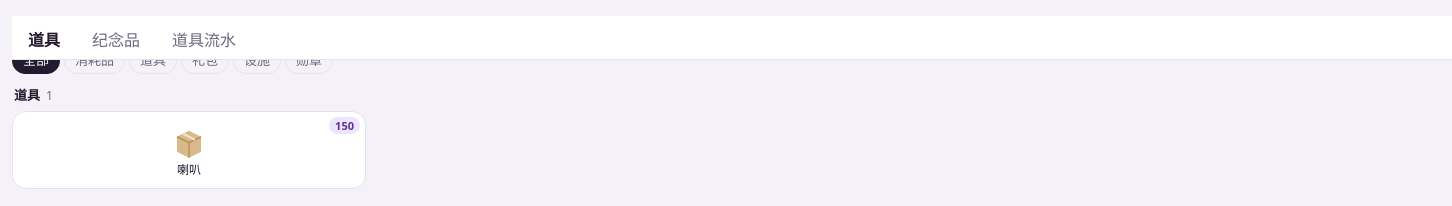
Test: StoreView 新道具（问题记录 276：页面开着时服务器加了新道具） › 前端道具目录里还没有的手办：按接口给的类型进纪念品页，并自动重新读目录显示名字
Expected: the text "南瓜大厨手办" is not shown
Click the tab with test id "tab-souvenirs": (116, 40) [76, 20, 156, 60]
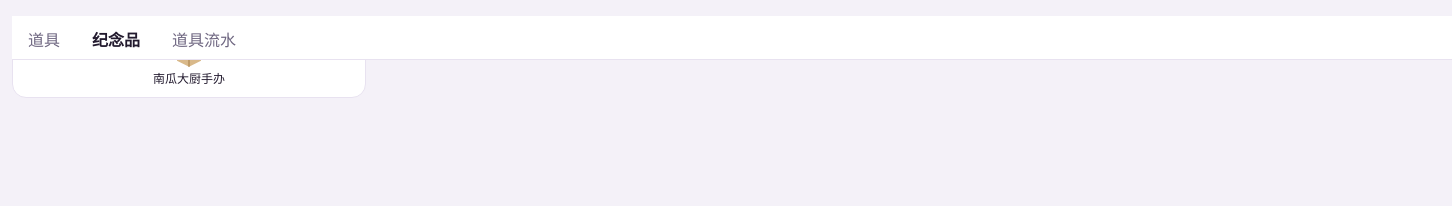
Now the button with test id "souvenir-91101" shows "南瓜大厨手办", box [12, 20, 366, 98]
